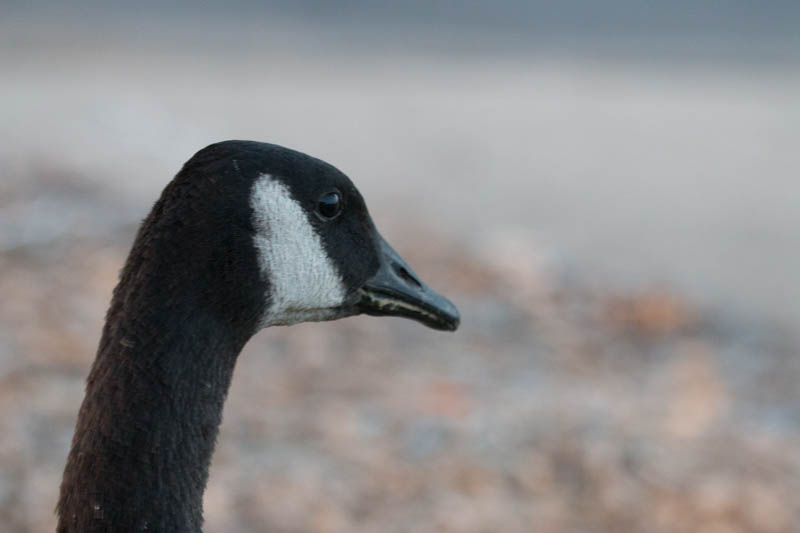goose-head: (161, 139, 461, 332)
